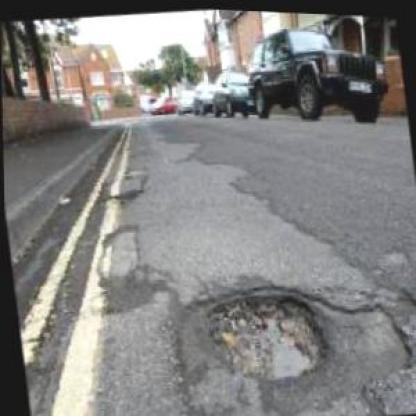pothole: (194, 276, 332, 390)
